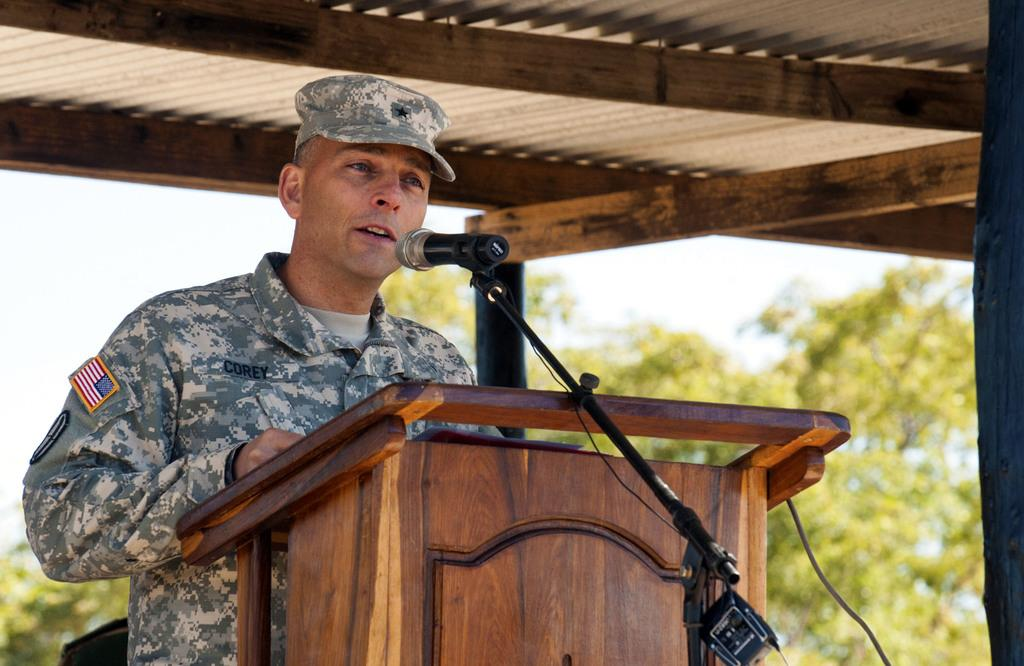Hat: (294, 74, 456, 185)
